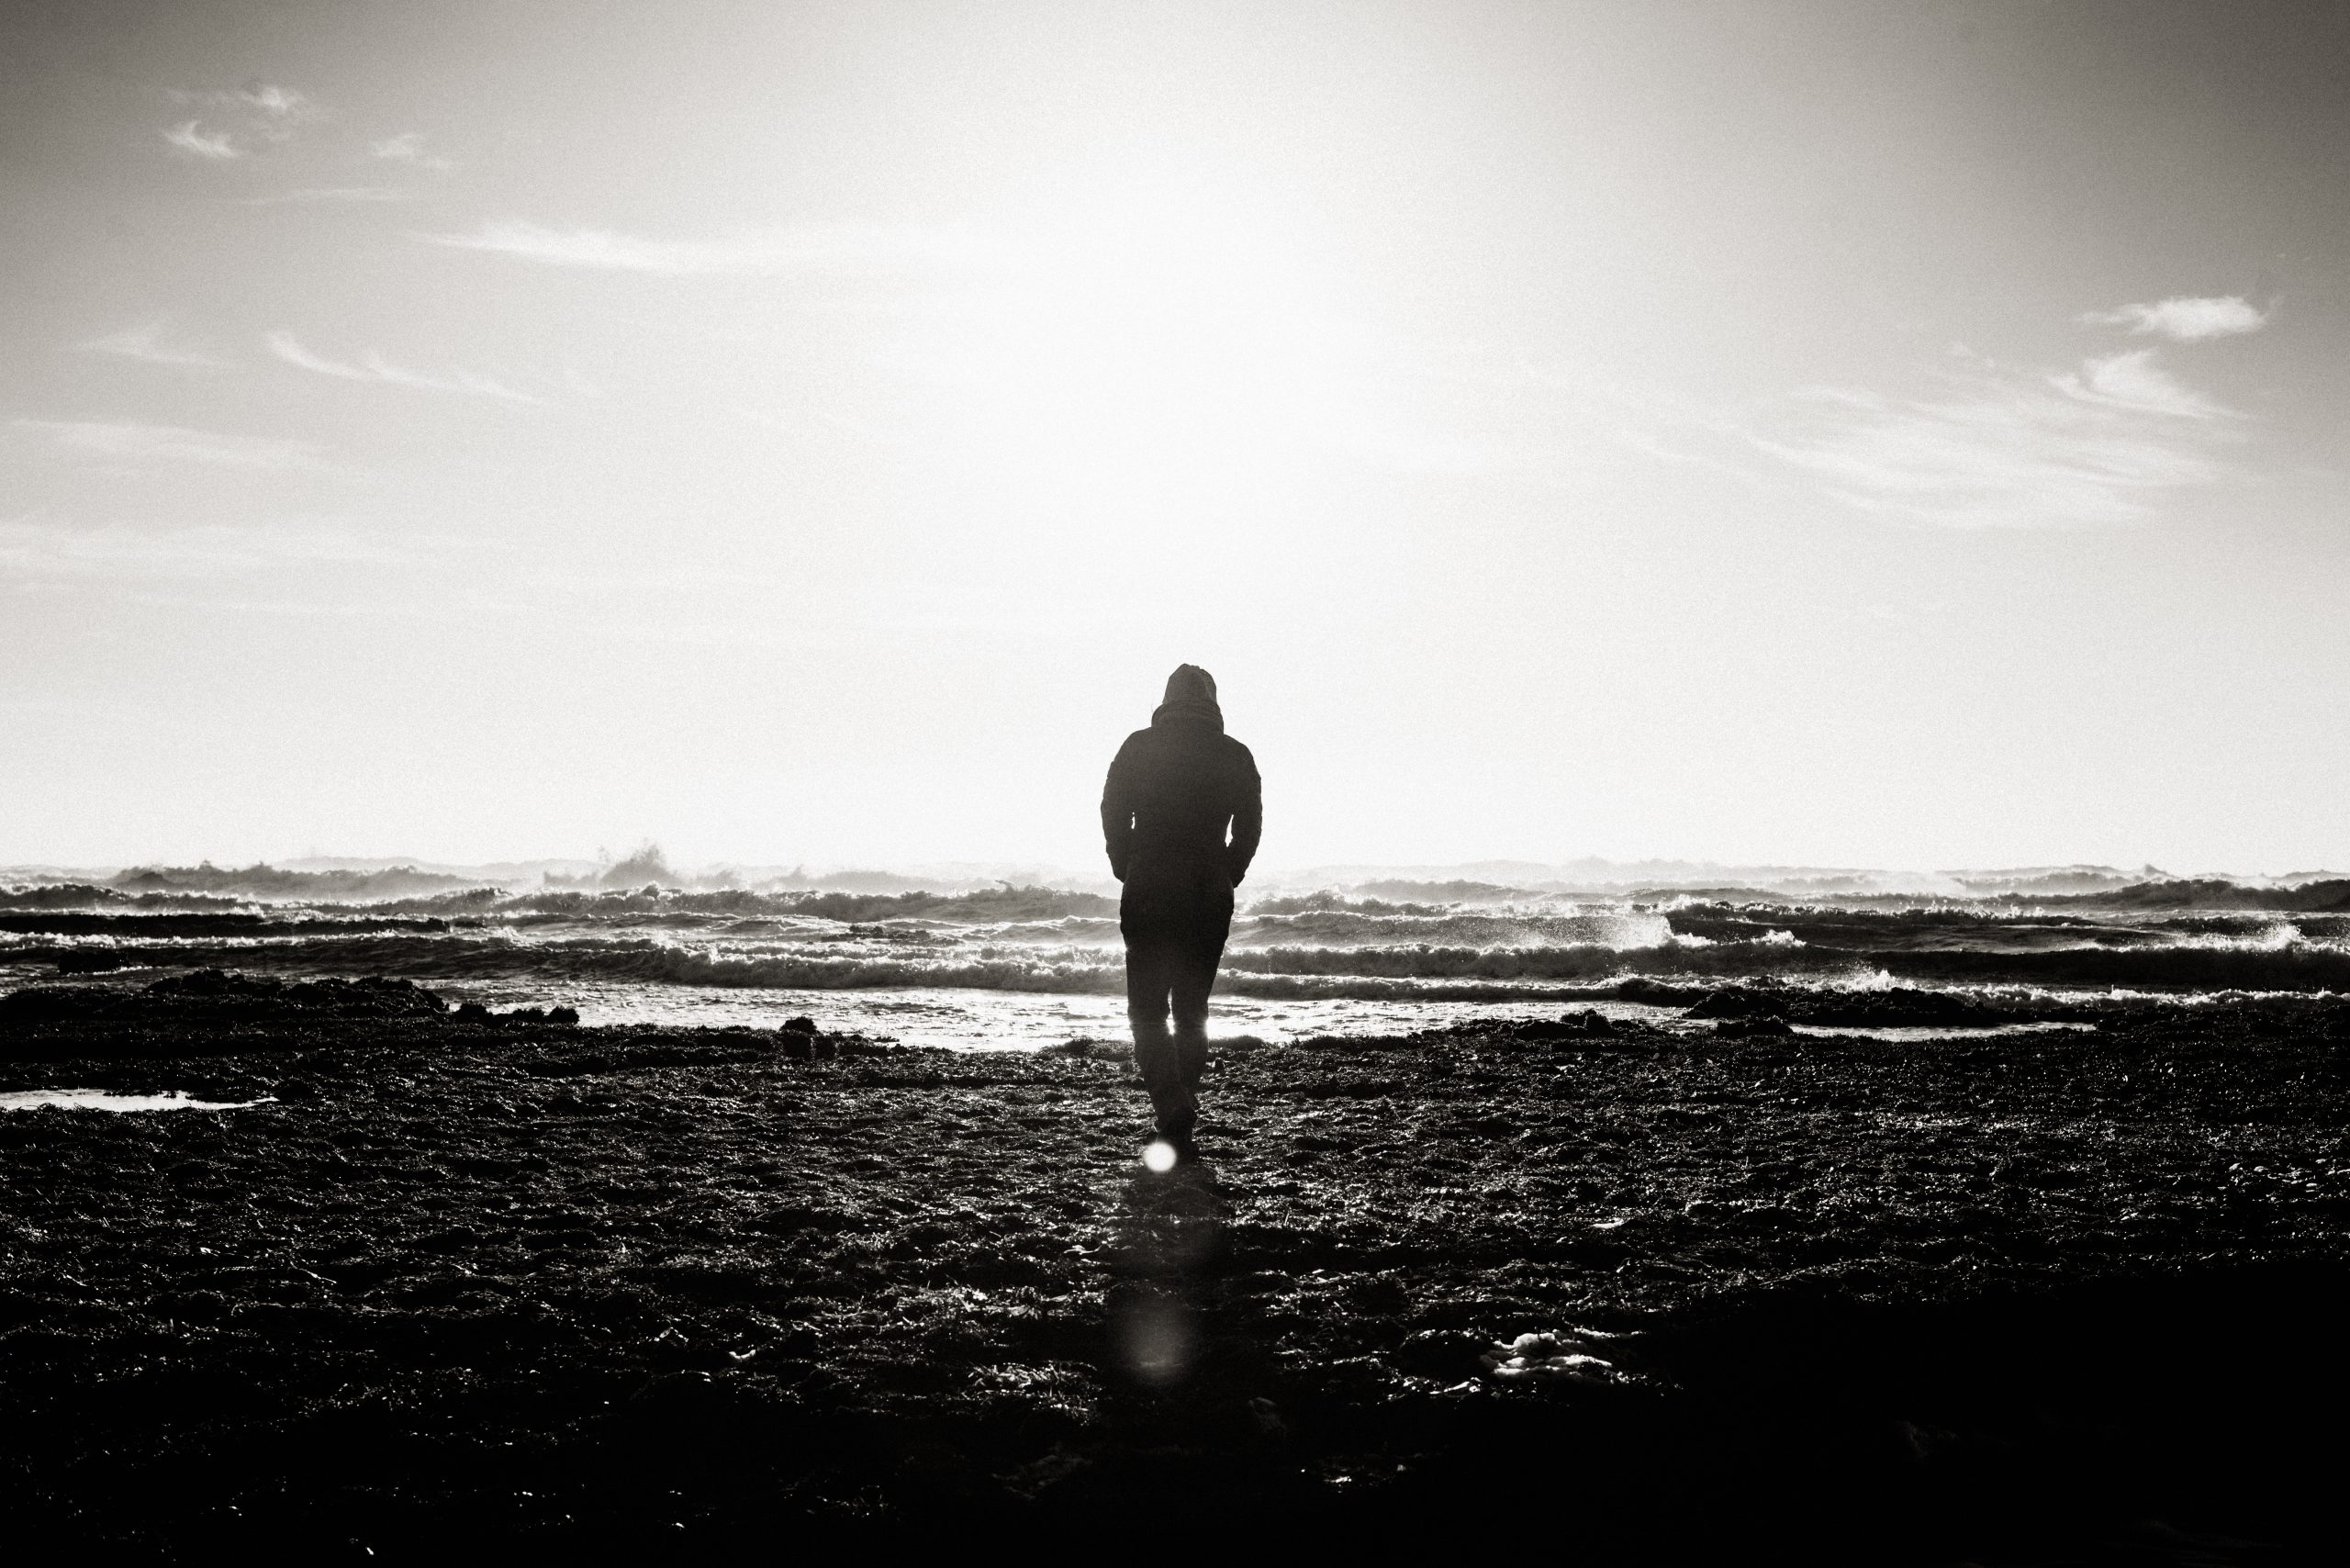Person: (985, 609, 1311, 1245)
